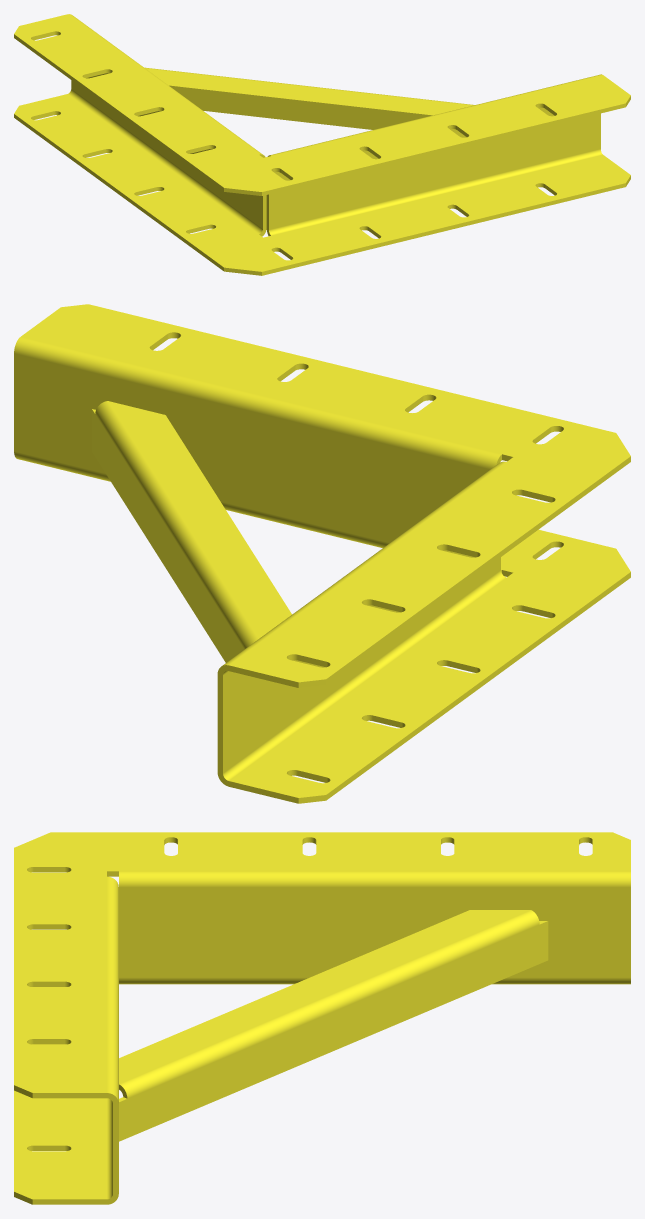
The picture shows the model from 3 angles, top to bottom: view 1: azimuth 30°, elevation 25°; view 2: azimuth 150°, elevation 25°; view 3: azimuth 270°, elevation 25°; orthographic projection. The views are drawn at different scales.
Parts seen in each view (by area): view 1: 006-1001-1, 006-1002-1, 006-1003-1; view 2: 006-1001-1, 006-1002-1, 006-1003-1; view 3: 006-1002-1, 006-1001-1, 006-1003-1.
Boxes of the visible parts, x1=… form: 006-1001-1: x1=243, y1=74, x2=630, y2=275; 006-1002-1: x1=14, y1=14, x2=266, y2=273; 006-1003-1: x1=144, y1=67, x2=474, y2=129; 006-1001-1: x1=14, y1=304, x2=623, y2=576; 006-1002-1: x1=217, y1=444, x2=630, y2=803; 006-1003-1: x1=92, y1=401, x2=291, y2=662; 006-1002-1: x1=33, y1=832, x2=630, y2=984; 006-1001-1: x1=14, y1=840, x2=118, y2=1204; 006-1003-1: x1=119, y1=910, x2=548, y2=1141.
Size of the model in its own units: 0.5 by 0.1 by 0.5.
